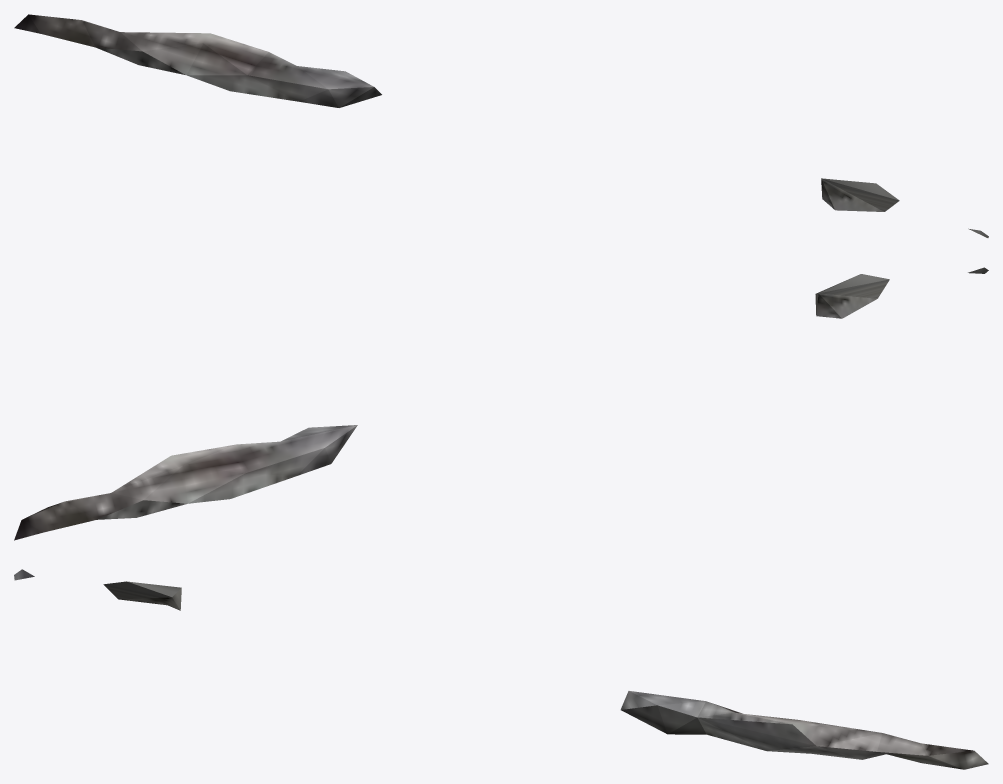
3 renders of one model, top to bottom at view 1: azimuth 90°, elevation 25°; view 2: azimuth 150°, elevation 25°; view 3: azimuth 270°, elevation 25°, orthographic. The views are drawn at different scales.
Bounding box in the file's own units: 0.2326 × 0.021 × 0.476.
1 material, 1 textured.
